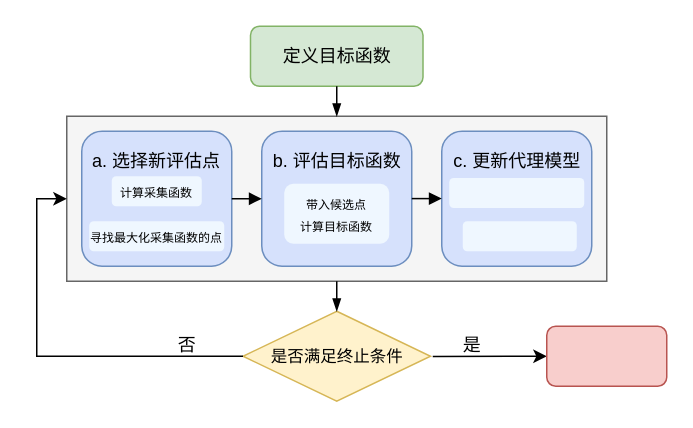
This 693x428 diagram has some shape labels left out. The box of each missing label's shape, as (x1, y1, x2, y2) in pixels:
将候选点结果加入数据集: (448, 177, 584, 207)
输出最优点: (545, 325, 667, 386)
重新训练代理模型: (462, 220, 576, 250)
